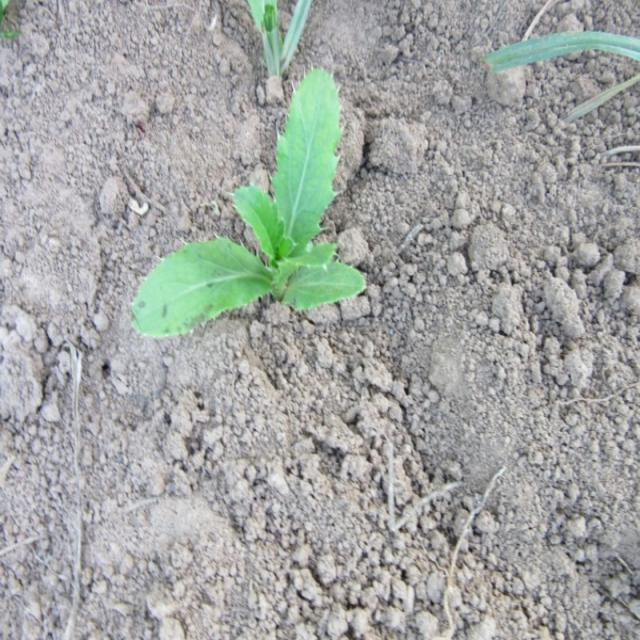cs: (130, 63, 369, 346)
